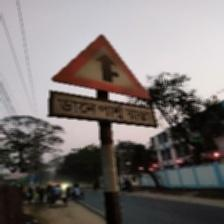Side-road-right: (49, 34, 157, 129)
